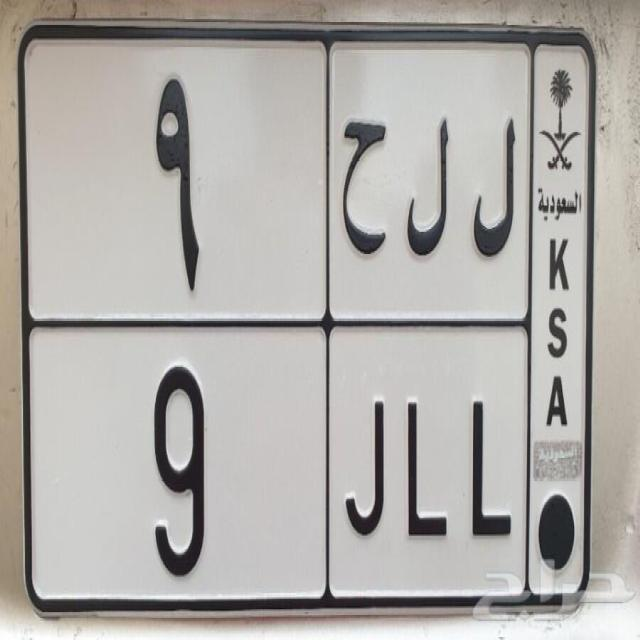license_plate: (24, 313, 533, 611)
